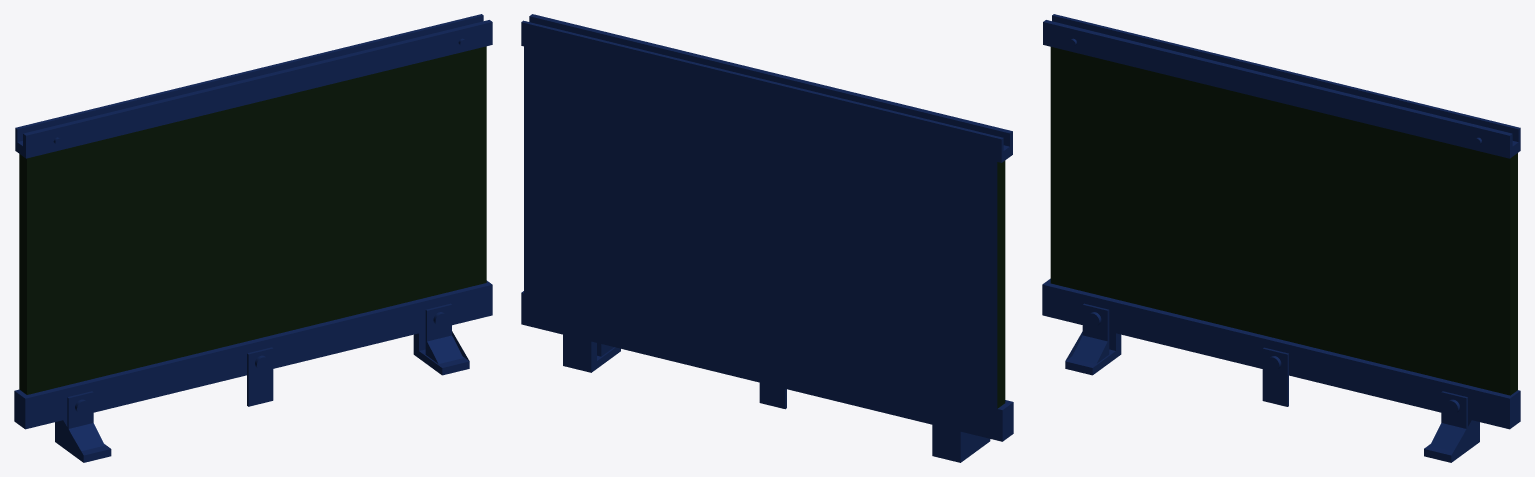
File: Mesh_GreenGym_Base_Brains.FBX
3 views of the same model, side by side, from view 1: azimuth 30°, elevation 25°; view 2: azimuth 150°, elevation 25°; view 3: azimuth 330°, elevation 25° (orthographic). The views are drawn at different scales.
Parts seen in each view (by area): view 1: Mesh_GreenGym_Base_Brains; view 2: Mesh_GreenGym_Base_Brains; view 3: Mesh_GreenGym_Base_Brains.
Boxes of the visible parts, x1,y1,x2,y2 form: Mesh_GreenGym_Base_Brains: [14, 14, 492, 462]; Mesh_GreenGym_Base_Brains: [521, 14, 1013, 462]; Mesh_GreenGym_Base_Brains: [1042, 14, 1520, 462].
Size of what is drawn, in the model's own units: 1512 by 161 by 1001.
